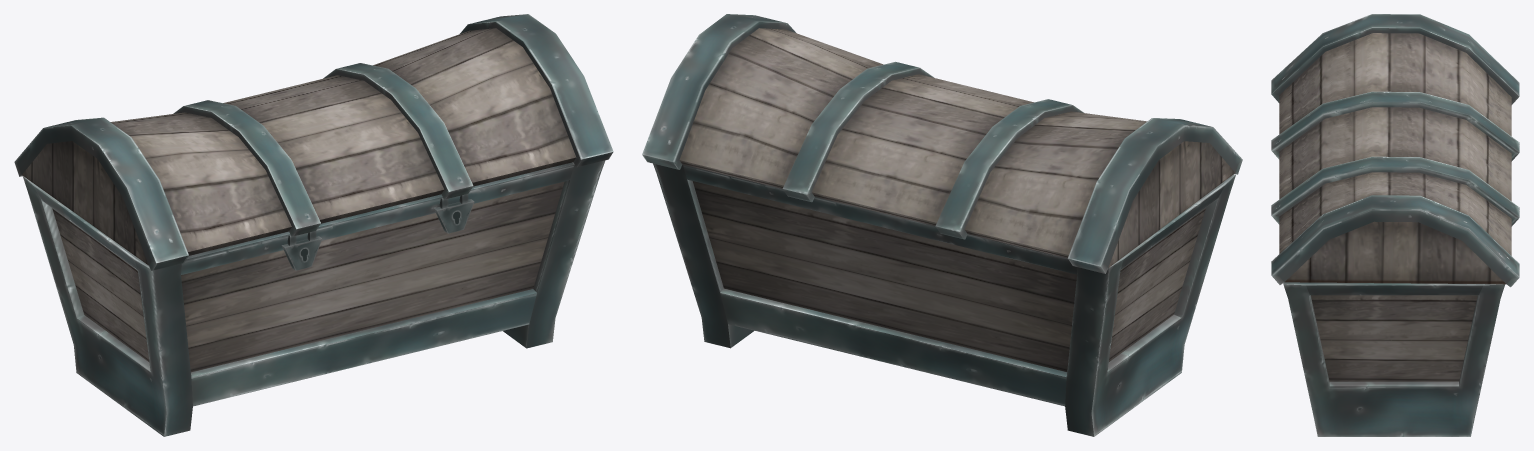
The model's file is chest_012.FBX.
The picture shows the model from 3 angles, left to right: view 1: azimuth 30°, elevation 25°; view 2: azimuth 150°, elevation 25°; view 3: azimuth 270°, elevation 25°; orthographic projection. The views are drawn at different scales.
Parts seen in each view (by area): view 1: chest_0121, chest; view 2: chest_0121, chest; view 3: chest, chest_0121.
Part boxes in pixels (x1,y1,x2,y2): chest_0121: (22, 160, 605, 436); chest: (14, 14, 613, 270); chest_0121: (653, 163, 1235, 436); chest: (642, 14, 1242, 273); chest: (1271, 14, 1519, 287); chest_0121: (1283, 282, 1505, 436).
Size of the model in its own units: 26.29 by 15.08 by 13.99.
